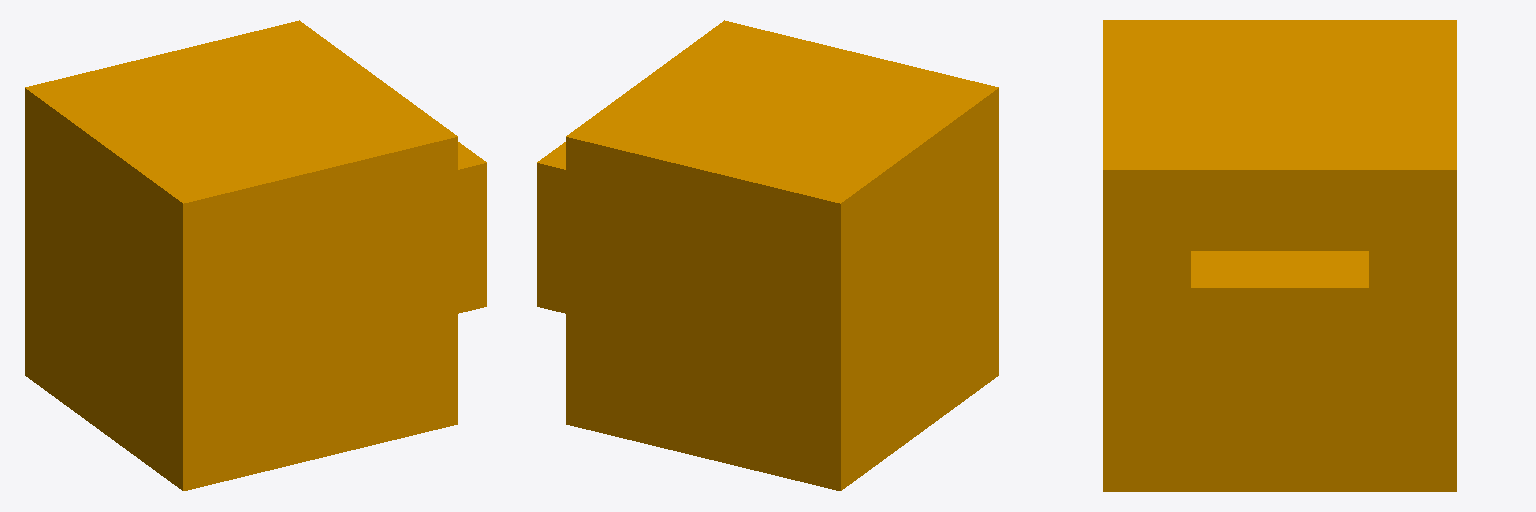
The robot description file, URDF, robot "sphere":
<?xml version="1.0"?>
<robot name="sphere">
	<material name="White" rgba="0 0 0 1" />

	<link name="base_link">
		<visual name="box1">
			<geometry>
				<box size="1.0 1.0 1.0" />
			</geometry>

			<material name="White" />
		</visual>

		<visual name="box2">
			<origin xyz="0.5 0 0" rpy="0 0 0" />
			<geometry>
				<box size="0.5 0.5 0.5" />
			</geometry>

			<material name="White" />
		</visual>

    <inertial>
      <mass value="10"/>
      <inertia ixx="0.4" ixy="0.0" ixz="0.0" iyy="0.4" iyz="0.0" izz="0.2"/>
    </inertial>
	</link>
</robot>

--- Facts derived from the render (not from the file) ---
Views: 3 orthographic renders of the robot side by side, from view 1: azimuth 30°, elevation 25°; view 2: azimuth 150°, elevation 25°; view 3: azimuth 270°, elevation 25°.
Robot: sphere — 1 links, 0 joints (none); root link base_link; default pose: all joints at 0.
Visible links, largest first — view 1: base_link; view 2: base_link; view 3: base_link.
Link boxes in pixels (left/top/right/bottom): base_link: left=25, top=20, right=486, bottom=490; base_link: left=537, top=20, right=998, bottom=490; base_link: left=1103, top=20, right=1456, bottom=491.
Bounding box of the posed robot: 1.25 × 1 × 1 m (x, y, z).
Geometry: primitives only (box / cylinder / sphere), no mesh files.